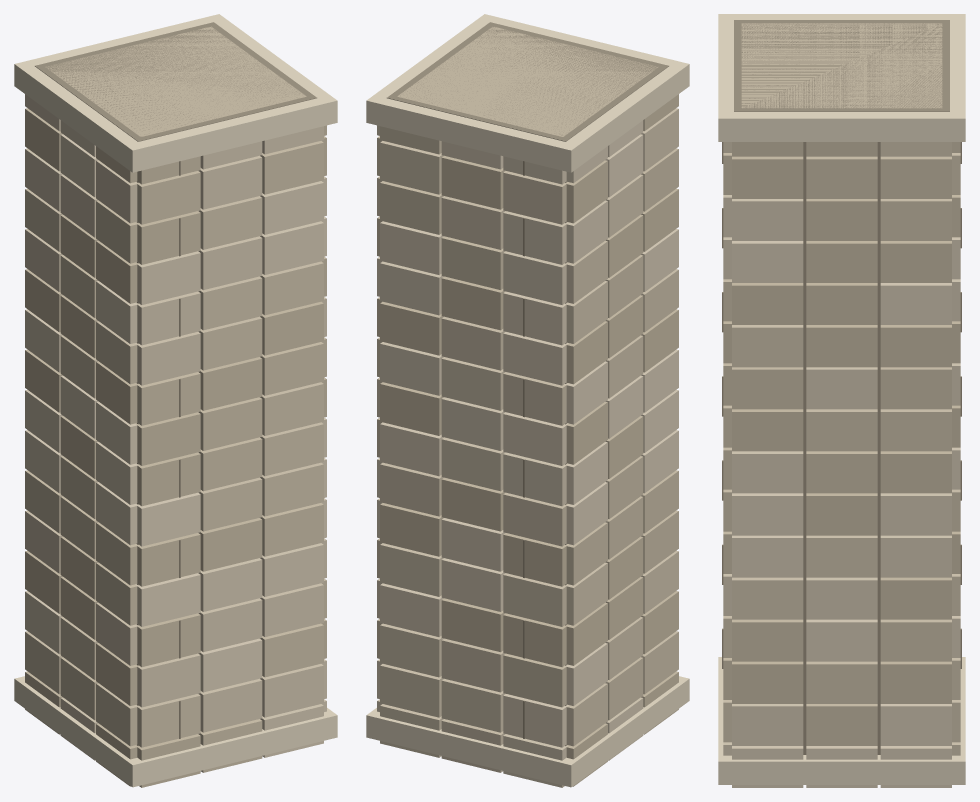
3 renders of one model, left to right at view 1: azimuth 30°, elevation 25°; view 2: azimuth 150°, elevation 25°; view 3: azimuth 270°, elevation 25°, orthographic. The views are drawn at different scales.
Visible parts, largest first — view 1: Bergfried – Steine, Säulen, Ziegel und Feuerstelle; view 2: Bergfried – Steine, Säulen, Ziegel und Feuerstelle; view 3: Bergfried – Steine, Säulen, Ziegel und Feuerstelle.
Part boxes in pixels (box(x1,y1,x2,y2)): Bergfried – Steine, Säulen, Ziegel und Feuerstelle: box(14, 14, 337, 787); Bergfried – Steine, Säulen, Ziegel und Feuerstelle: box(366, 14, 689, 787); Bergfried – Steine, Säulen, Ziegel und Feuerstelle: box(718, 14, 965, 787).
Bounding box in the file's own units: 222 × 666 × 222.
